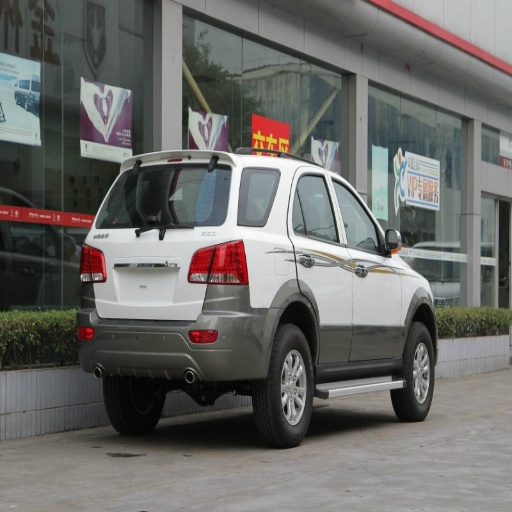back_bumper: (78, 285, 279, 377)
back_right_door: (289, 168, 352, 369)
trunk: (92, 229, 214, 318)
